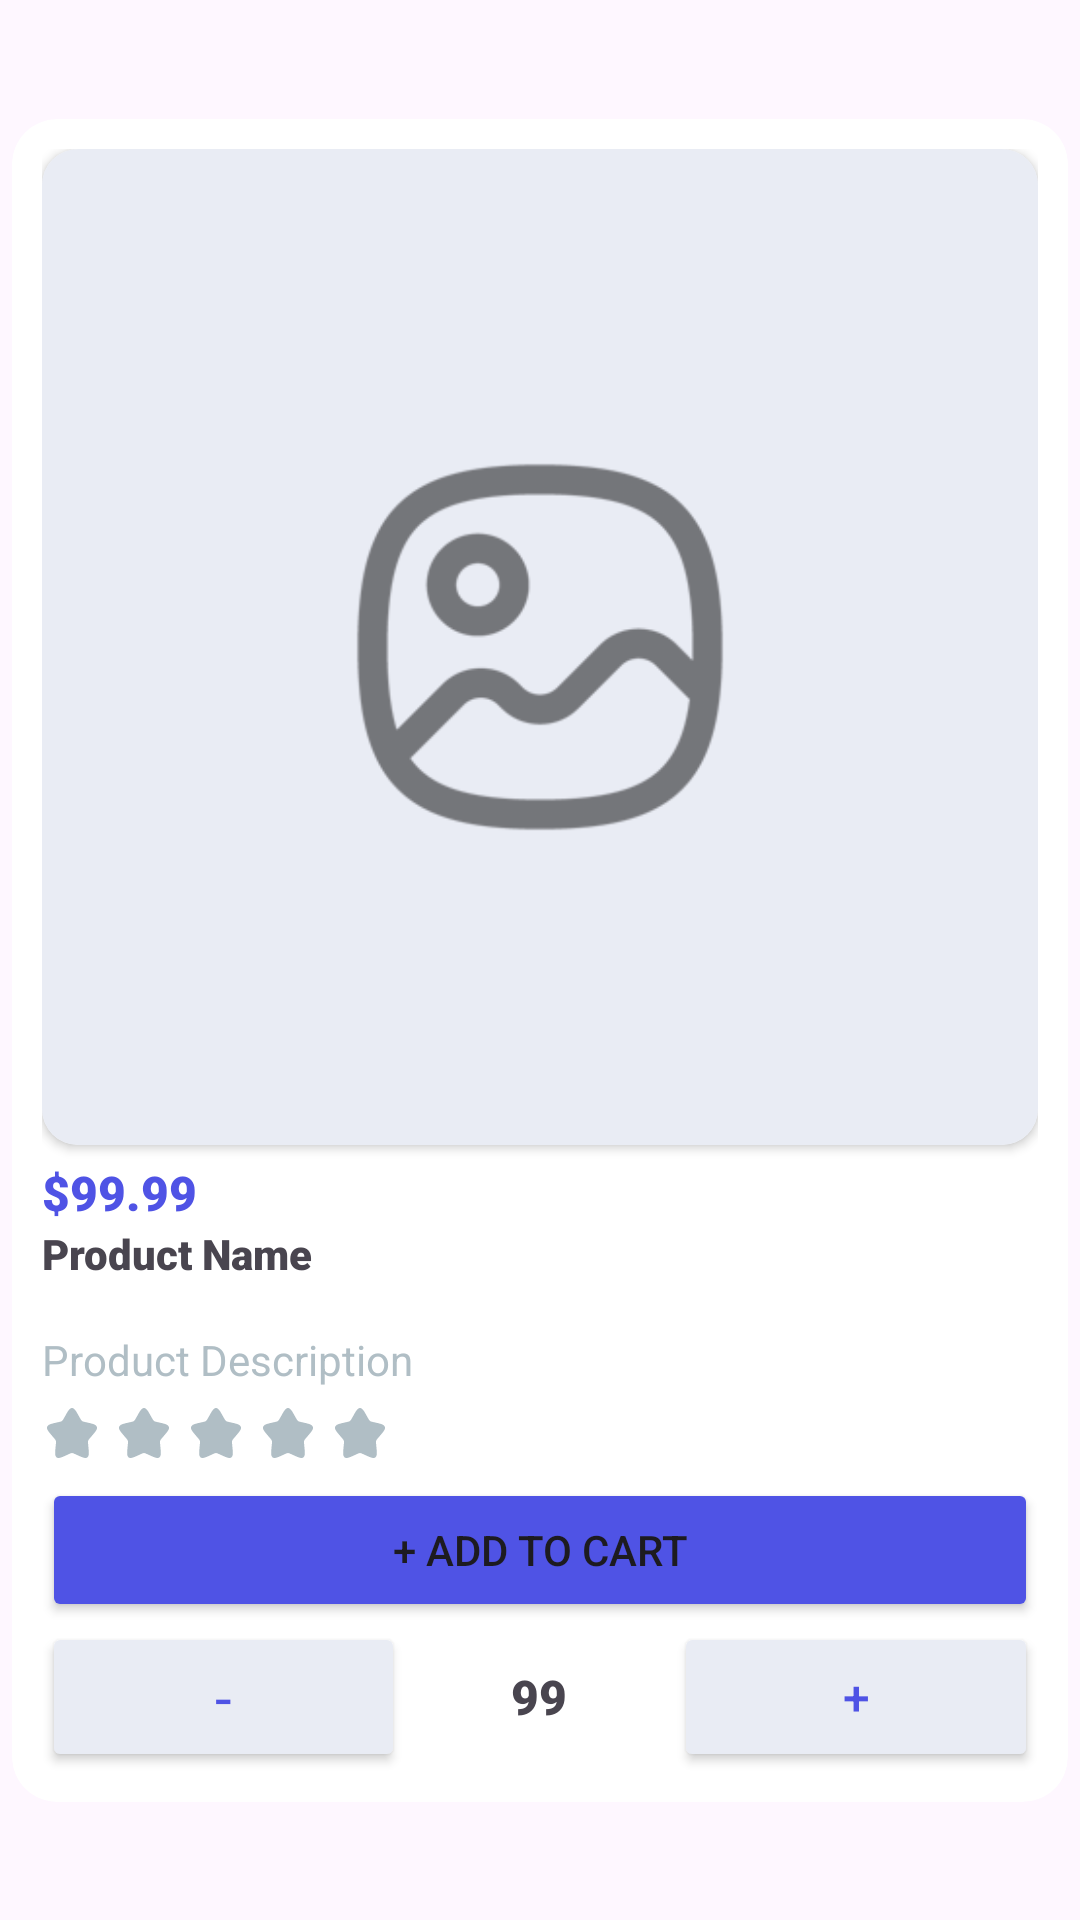

Screen size 1080x1920. Icon name, then its box in pixels as box=[x1, y1, x2, y2]:
star: box=[47, 1408, 97, 1458], box=[119, 1408, 169, 1458], box=[191, 1408, 241, 1458], box=[263, 1408, 313, 1458], box=[335, 1408, 385, 1458]
